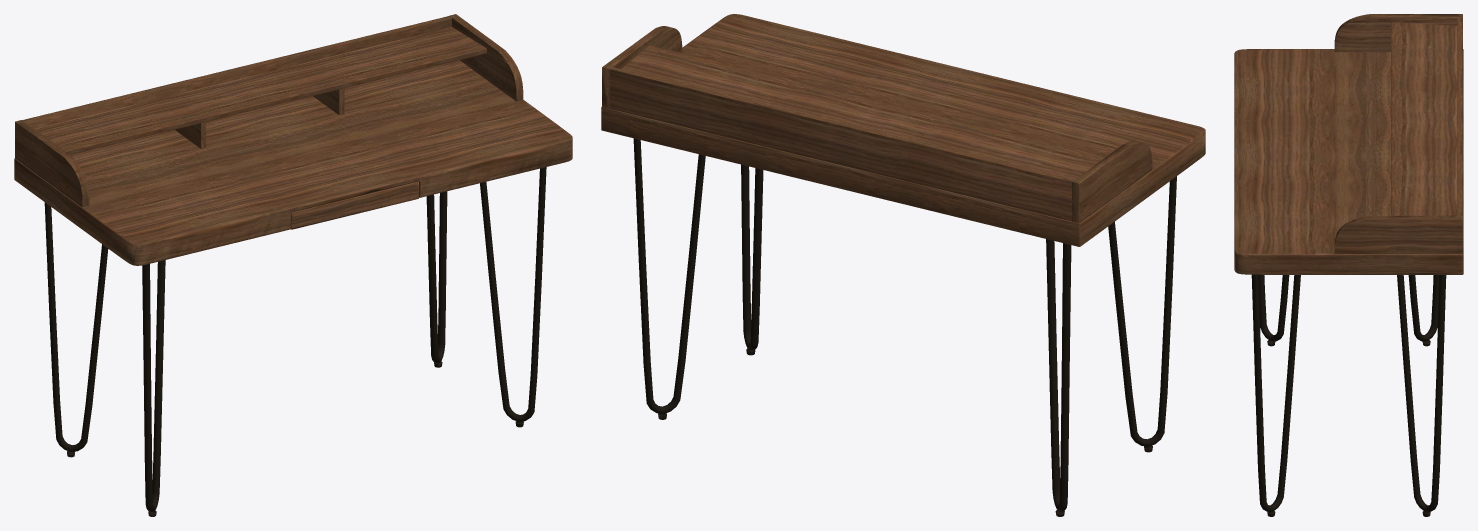
3 renders of one model, left to right at view 1: azimuth 30°, elevation 25°; view 2: azimuth 150°, elevation 25°; view 3: azimuth 270°, elevation 25°, orthographic. The views are drawn at different scales.
Visible parts, largest first — view 1: RootNode; view 2: RootNode; view 3: RootNode.
Part boxes in pixels (x1=…): RootNode: x1=14, y1=14, x2=572, y2=516; RootNode: x1=601, y1=14, x2=1205, y2=516; RootNode: x1=1234, y1=14, x2=1463, y2=516.
Bounding box in the file's own units: 1.2 × 0.8536 × 0.5653.
1 material, 1 textured.
